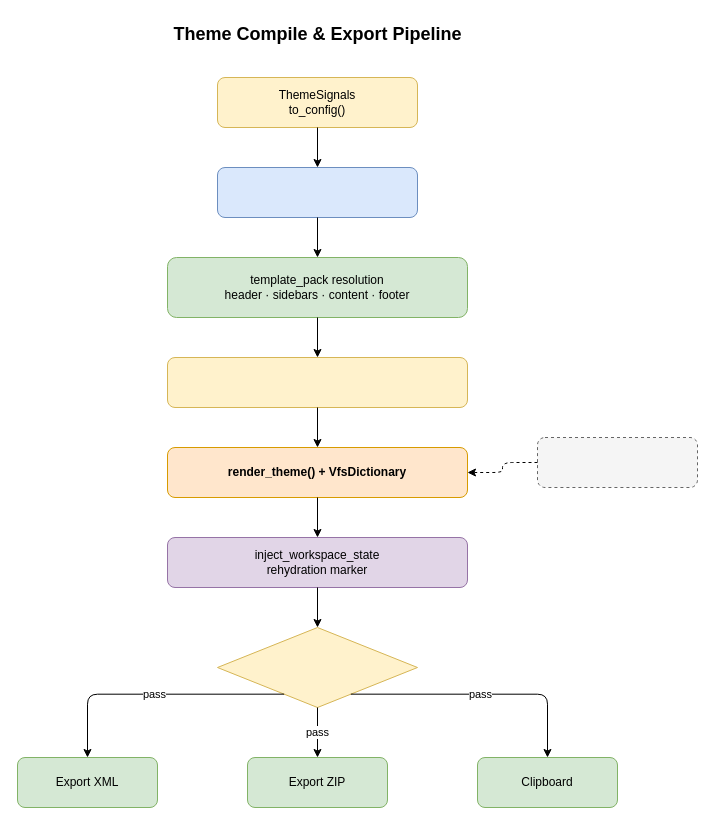
This 715x825 diagram has some shape labels left out. Here are the shapes that lost their labels. From the top down, the centre of each, then its label:
At [317,192]: "ThemeConfig Memo".
At [317,382]: "css_builder mor_ namespace stitch".
At [617,462]: "VFS custom CSS/JS".
At [317,667]: "check_integrity".
